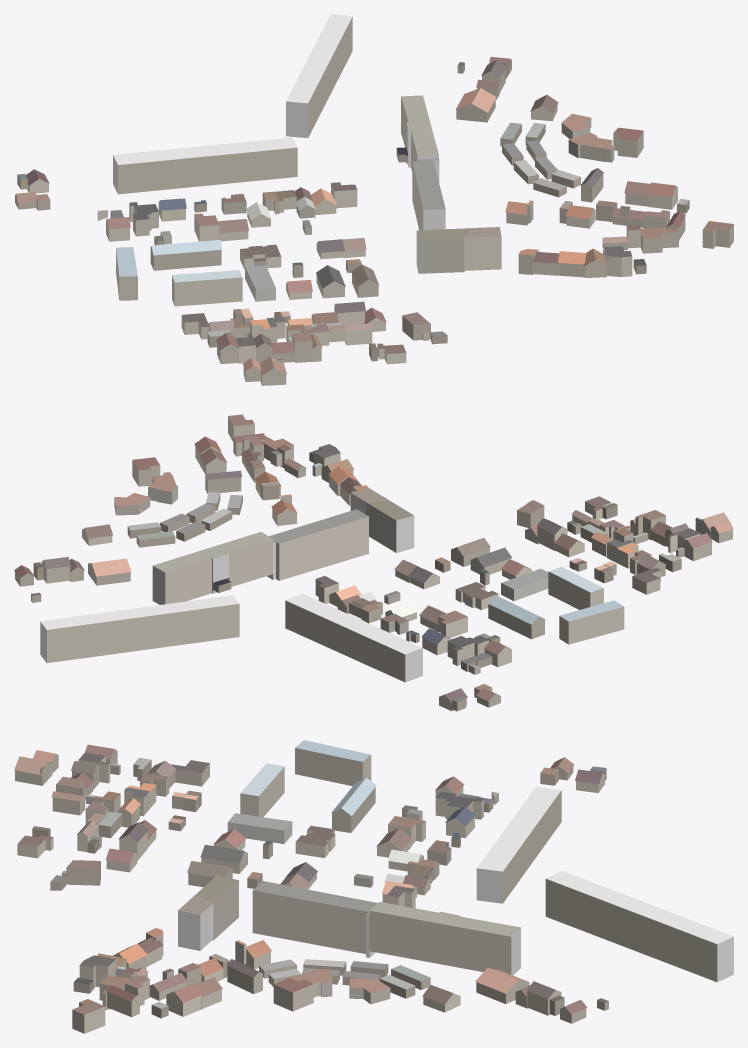
The picture shows the model from 3 angles, top to bottom: view 1: azimuth 30°, elevation 25°; view 2: azimuth 150°, elevation 25°; view 3: azimuth 270°, elevation 25°; orthographic projection. The views are drawn at different scales.
Visible parts, largest first — view 1: tuile; view 2: tuile; view 3: tuile.
Part boxes in pixels (x1,y1,x2,y2): tuile: (15, 14, 733, 385); tuile: (14, 414, 733, 711); tuile: (14, 740, 733, 1033).
Bounding box in the file's own units: 265 × 27.62 × 290.
